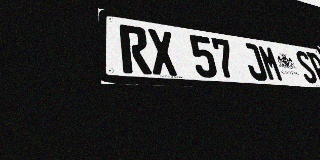5: (188, 34, 219, 78)
7: (209, 37, 239, 79)
J: (240, 42, 269, 81)
M: (257, 45, 285, 82)
P: (306, 52, 320, 84)
R: (119, 24, 152, 75)
S: (293, 50, 319, 84)
X: (147, 28, 179, 76)
